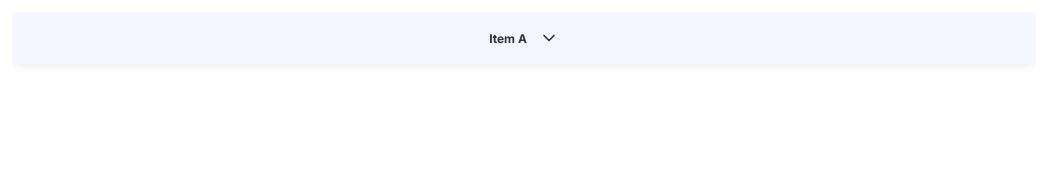
Test: Accordion — insideCard variant › insideCard accordion still expands and collapses correctly
Click the button "Item A" at (524, 38), box [12,12,1036,64]
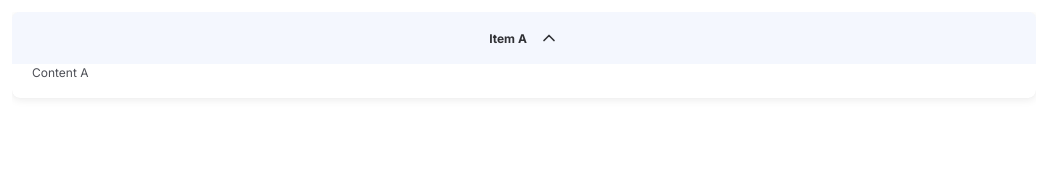
Check: the button "Item A" is expanded
Click the button "Item A" at (524, 38), box [12,12,1036,64]
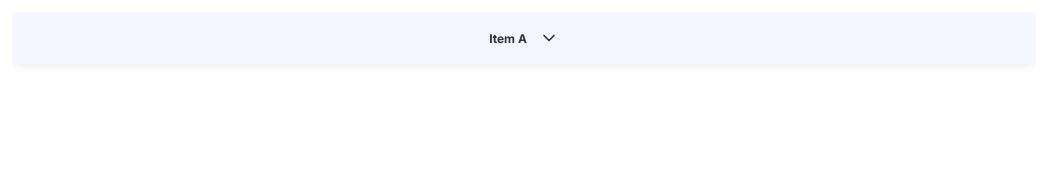
Check: the button "Item A" is collapsed, box [12,12,1036,64]
